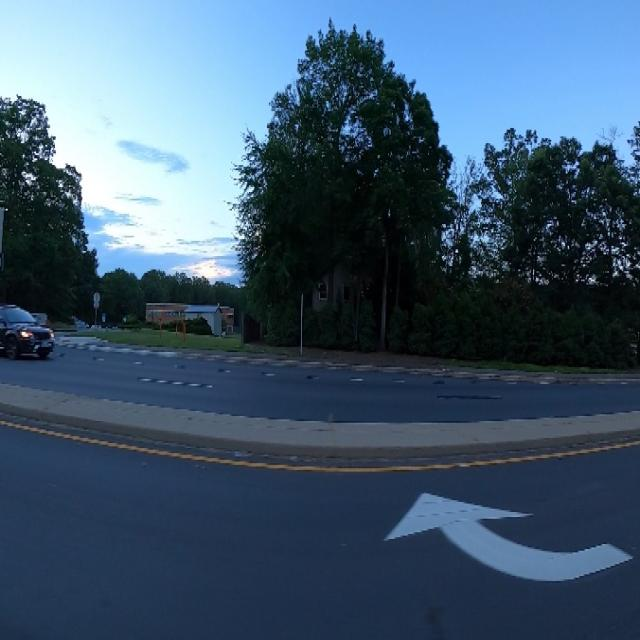cars: (0, 298, 57, 366)
